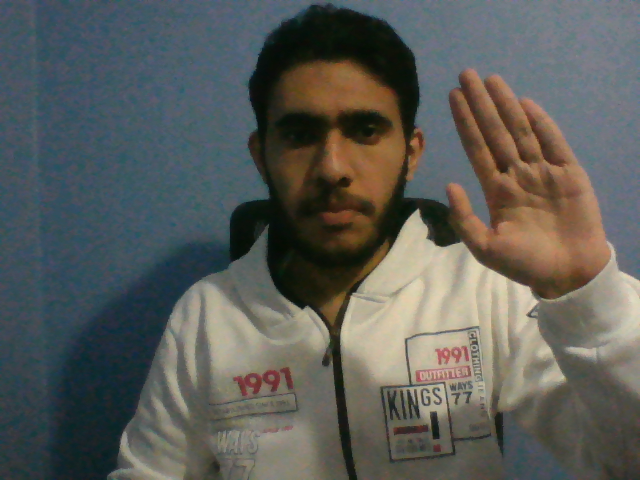hello: (441, 60, 623, 299)
